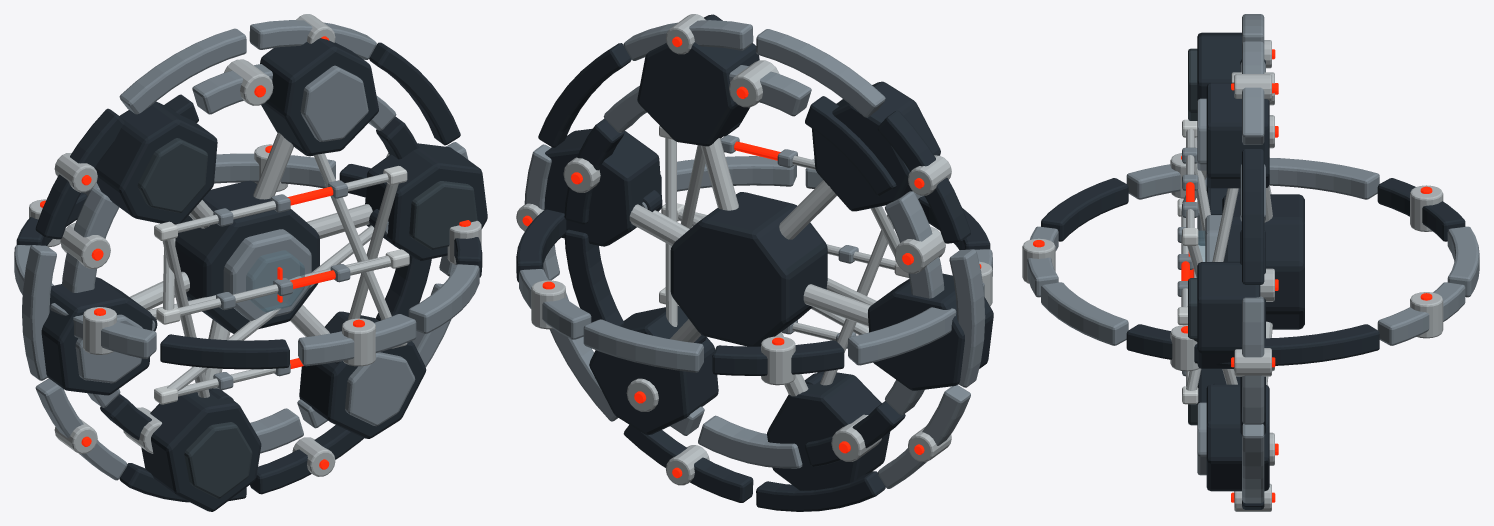
File: orbit-operate-ultra.glb
3 renders of one model, left to right at view 1: azimuth 30°, elevation 25°; view 2: azimuth 150°, elevation 25°; view 3: azimuth 270°, elevation 25°, orthographic. The views are drawn at different scales.
Parts seen in each view (by area): view 1: Operate_CausalKernel, Operate_ComputeBank_02, Operate_ComputeBank_01, Operate_ComputeBank_04, Operate_ComputeBank_00, Operate_ComputeBank_03, Operate_CausalProcessorCollar, Operate_ComputeBank_05, Operate_InferenceGimbal_2_RailSector_05, Operate_ComputeBankFace_02, Operate_InferenceGimbal_1_RailSector_03, Operate_ComputeBankFace_04 (+46 smaller); view 2: Operate_CausalKernel, Operate_ComputeBank_01, Operate_ComputeBank_04, Operate_ComputeBank_05, Operate_ComputeBank_00, Operate_ComputeBank_02, Operate_ComputeBank_03, Operate_InferenceGimbal_2_RailSector_05, Operate_InferenceGimbal_1_RailSector_07, Operate_InferenceGimbal_2_RailSector_06, Operate_InferenceGimbal_2_RailSector_07, Operate_InferenceGimbal_1_RailSector_05 (+41 smaller); view 3: Operate_CausalKernel, Operate_ComputeBank_00, Operate_ComputeBank_05, Operate_ComputeBank_01, Operate_InferenceGimbal_1_RailSector_05, Operate_InferenceGimbal_1_RailSector_09, Operate_InferenceGimbal_2_RailSector_03, Operate_InferenceGimbal_1_RailSector_01, Operate_InferenceGimbal_1_RailSector_03, Operate_InferenceGimbal_2_RailSector_02, Operate_ComputeBank_02, Operate_InferenceGimbal_1_RailSector_08 (+22 smaller).
Boxes of the visible parts, bbox=[...] form: Operate_CausalKernel: bbox=[175, 180, 319, 333]; Operate_ComputeBank_02: bbox=[95, 101, 217, 224]; Operate_ComputeBank_01: bbox=[260, 38, 378, 155]; Operate_ComputeBank_04: bbox=[141, 388, 261, 511]; Operate_ComputeBank_00: bbox=[365, 143, 487, 260]; Operate_ComputeBank_03: bbox=[41, 277, 152, 395]; Operate_CausalProcessorCollar: bbox=[223, 229, 311, 320]; Operate_ComputeBank_05: bbox=[299, 311, 426, 438]; Operate_InferenceGimbal_2_RailSector_05: bbox=[119, 28, 246, 114]; Operate_ComputeBankFace_02: bbox=[137, 138, 207, 212]; Operate_InferenceGimbal_1_RailSector_03: bbox=[160, 334, 289, 369]; Operate_ComputeBankFace_04: bbox=[184, 422, 252, 498]; Operate_CausalKernel: bbox=[670, 192, 827, 346]; Operate_ComputeBank_01: bbox=[637, 14, 759, 146]; Operate_ComputeBank_04: bbox=[767, 371, 889, 490]; Operate_ComputeBank_05: bbox=[589, 305, 718, 435]; Operate_ComputeBank_00: bbox=[544, 128, 662, 246]; Operate_ComputeBank_02: bbox=[812, 81, 940, 211]; Operate_ComputeBank_03: bbox=[868, 273, 993, 390]; Operate_InferenceGimbal_2_RailSector_05: bbox=[756, 29, 885, 117]; Operate_InferenceGimbal_1_RailSector_07: bbox=[583, 319, 703, 372]; Operate_InferenceGimbal_2_RailSector_06: bbox=[877, 110, 970, 243]; Operate_InferenceGimbal_2_RailSector_07: bbox=[949, 249, 985, 387]; Operate_InferenceGimbal_1_RailSector_05: bbox=[848, 307, 956, 365]; Operate_CausalKernel: bbox=[1222, 194, 1304, 329]; Operate_ComputeBank_00: bbox=[1197, 262, 1260, 368]; Operate_ComputeBank_05: bbox=[1206, 384, 1269, 491]; Operate_ComputeBank_01: bbox=[1206, 82, 1269, 188]; Operate_InferenceGimbal_1_RailSector_05: bbox=[1269, 158, 1379, 199]; Operate_InferenceGimbal_1_RailSector_09: bbox=[1264, 324, 1379, 365]; Operate_InferenceGimbal_2_RailSector_03: bbox=[1242, 149, 1264, 284]; Operate_InferenceGimbal_1_RailSector_01: bbox=[1041, 282, 1128, 345]; Operate_InferenceGimbal_1_RailSector_03: bbox=[1041, 178, 1128, 241]; Operate_InferenceGimbal_2_RailSector_02: bbox=[1242, 296, 1264, 424]; Operate_ComputeBank_02: bbox=[1197, 32, 1241, 100]; Operate_InferenceGimbal_1_RailSector_08: bbox=[1377, 282, 1465, 345].
Bounding box in the file's own units: 8.58 × 8.51 × 7.86.
